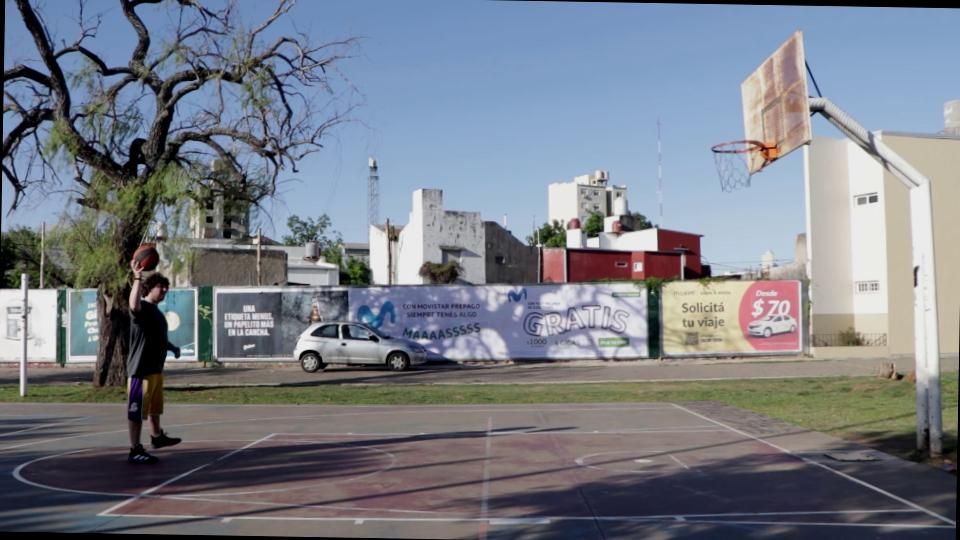hoop: (709, 138, 765, 155)
